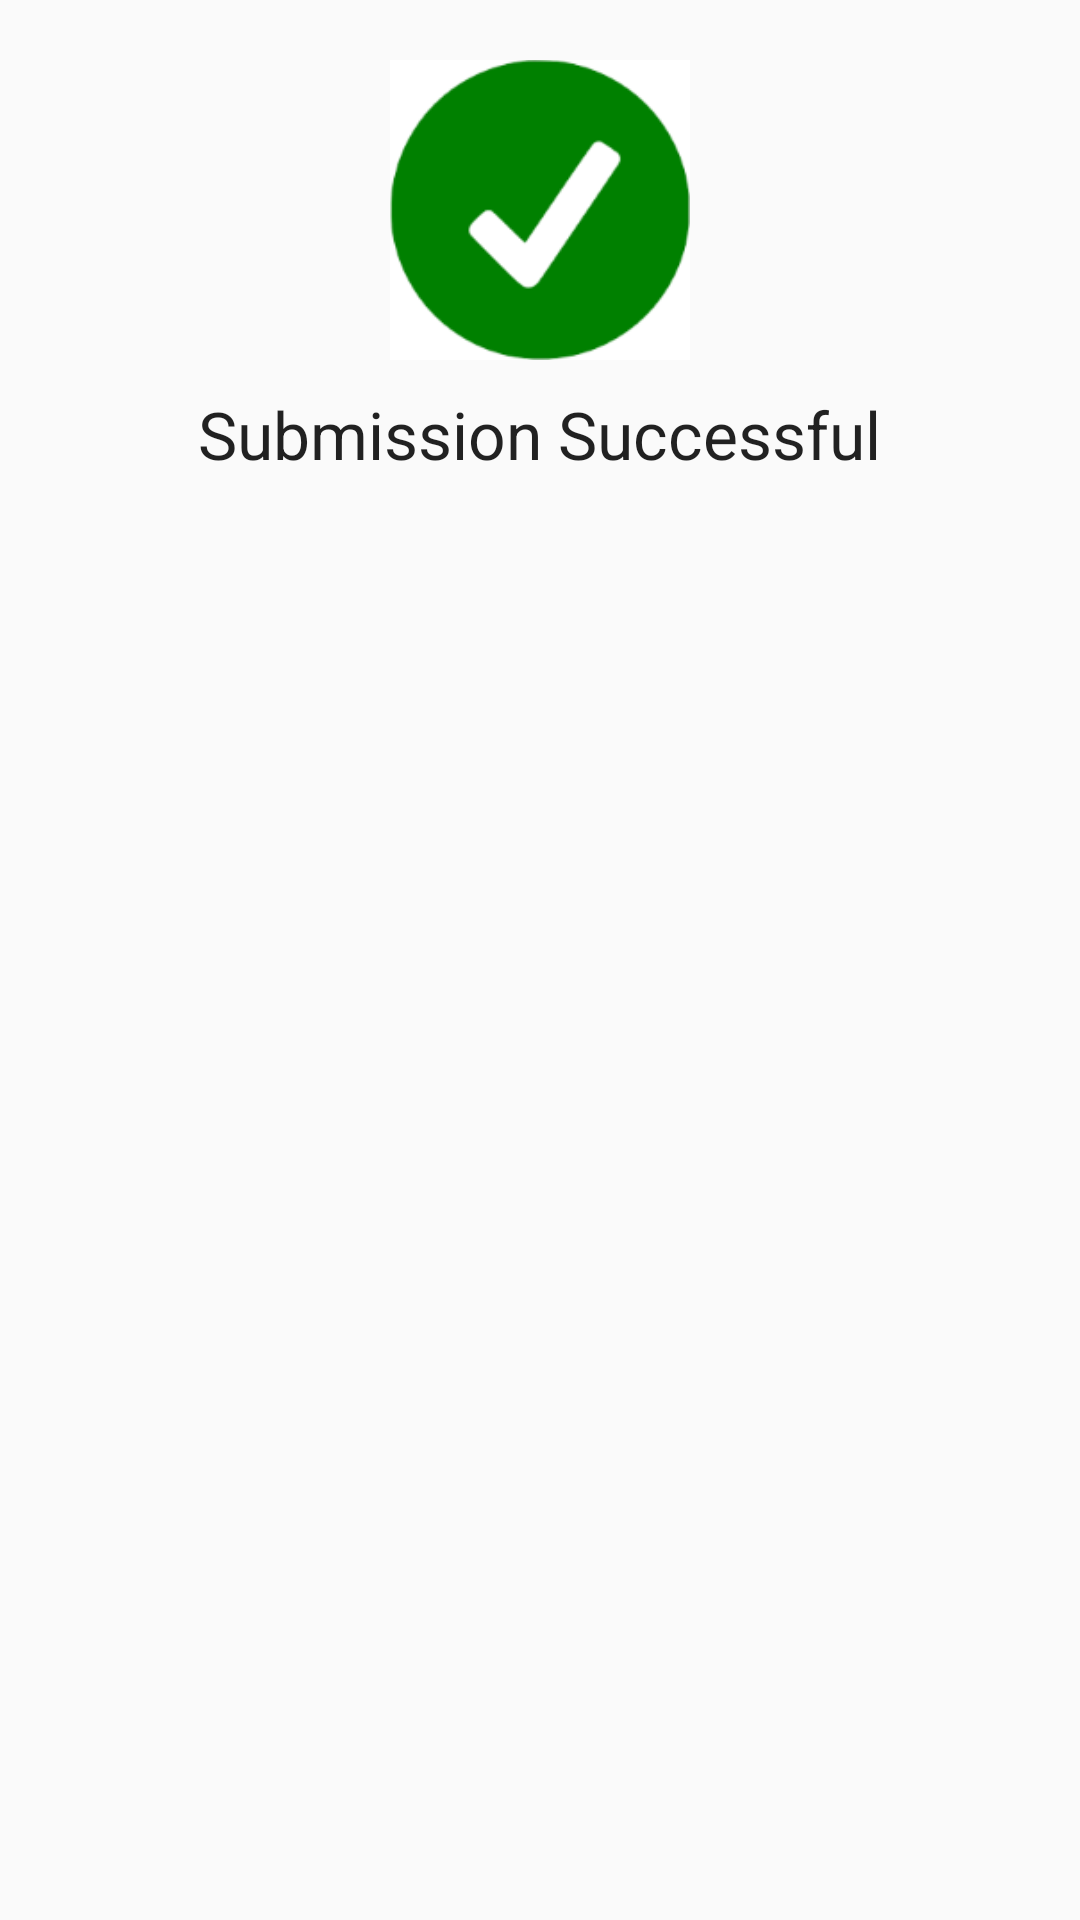

Named icons in this screenshot (1080*1920) and their bounding boxes, (x1, y1, x2, y2):
tick: (390, 60, 690, 360)
